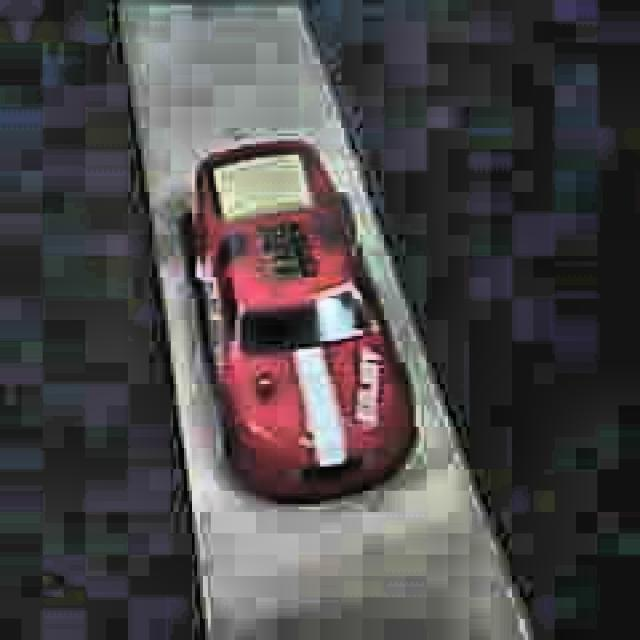car: (178, 137, 422, 510)
